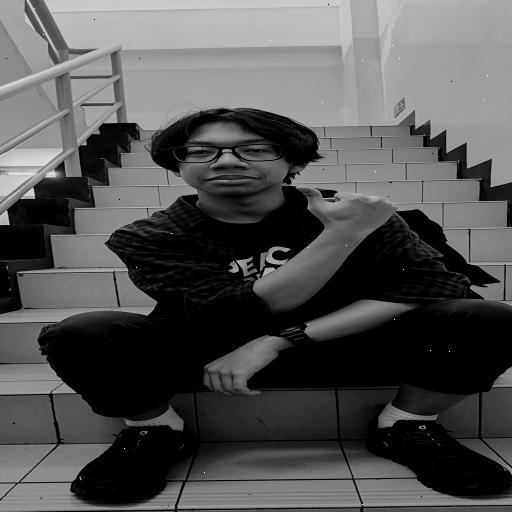back: (292, 181, 415, 238)
